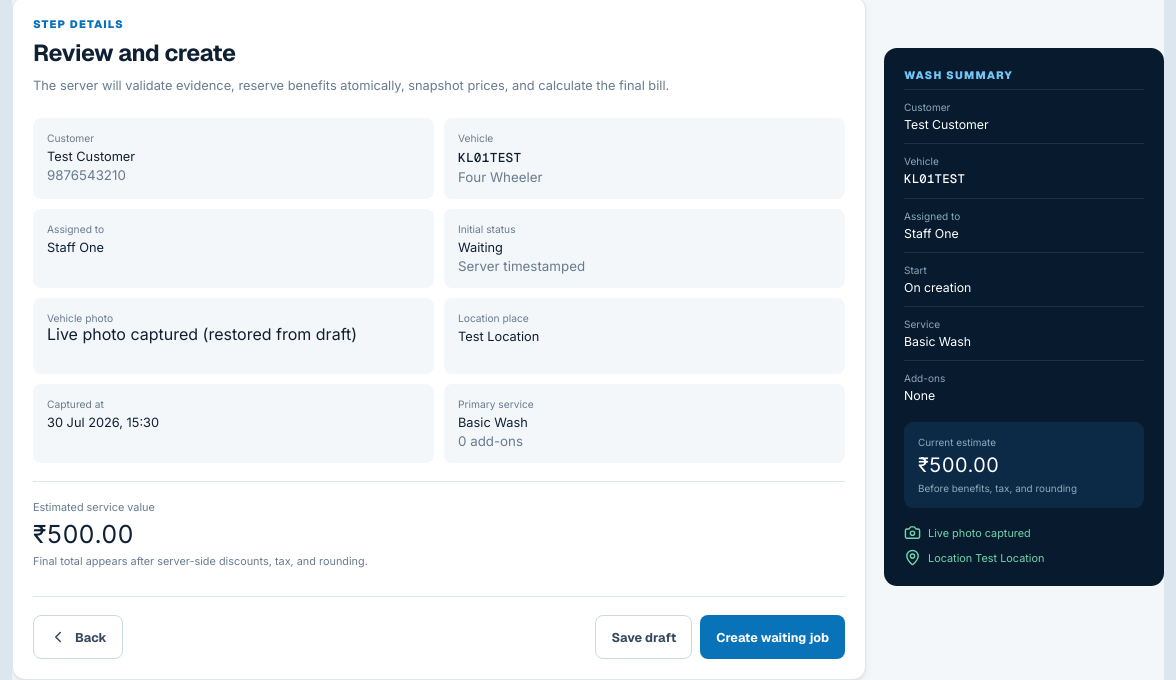
Test: New Wash wizard — navigation › Back from Review returns to Services
(page scrolled)
Check: the heading "Review and create" is shown, box x1=33 y1=38 x2=236 y2=68
Click the button "Back": (78, 637) x1=33 y1=615 x2=123 y2=659
(page scrolled)
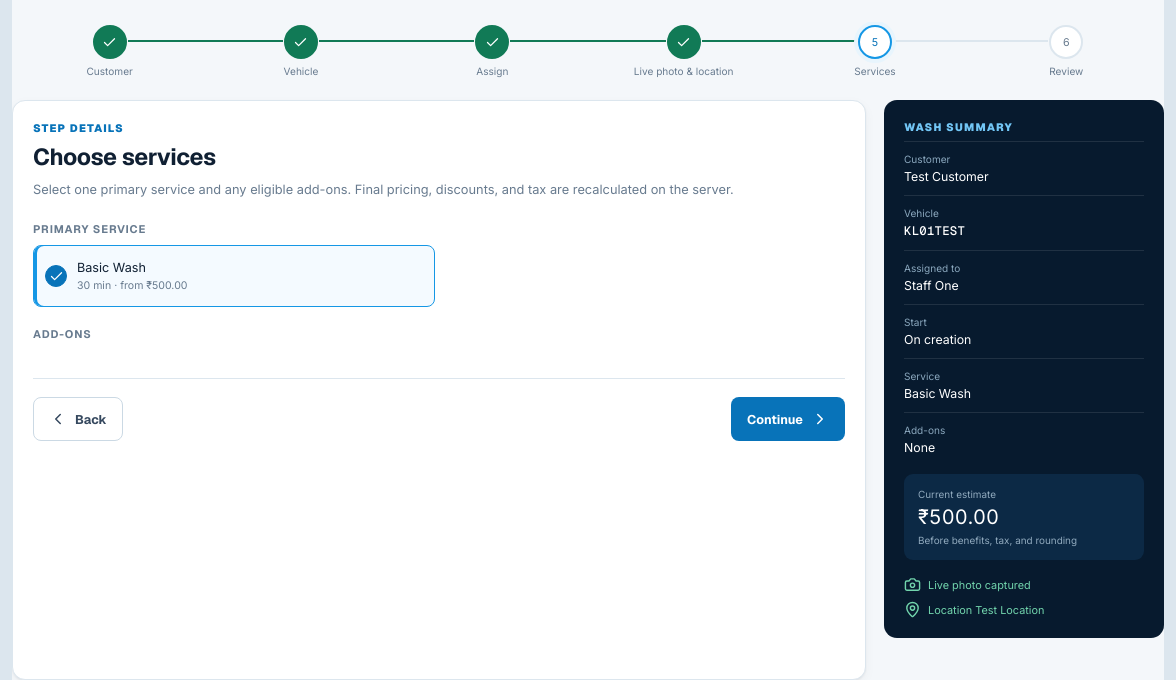
Check: the heading "Choose services" is shown, box x1=33 y1=142 x2=216 y2=172
